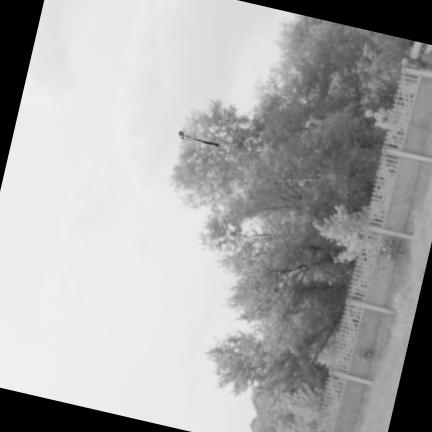Shahed: (179, 131, 219, 145)
